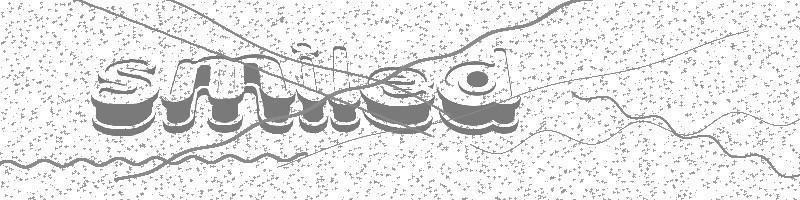d: (438, 46, 522, 135)
e: (360, 66, 437, 136)
i: (289, 40, 329, 135)
l: (329, 45, 362, 133)
m: (160, 53, 296, 136)
s: (90, 58, 160, 138)
